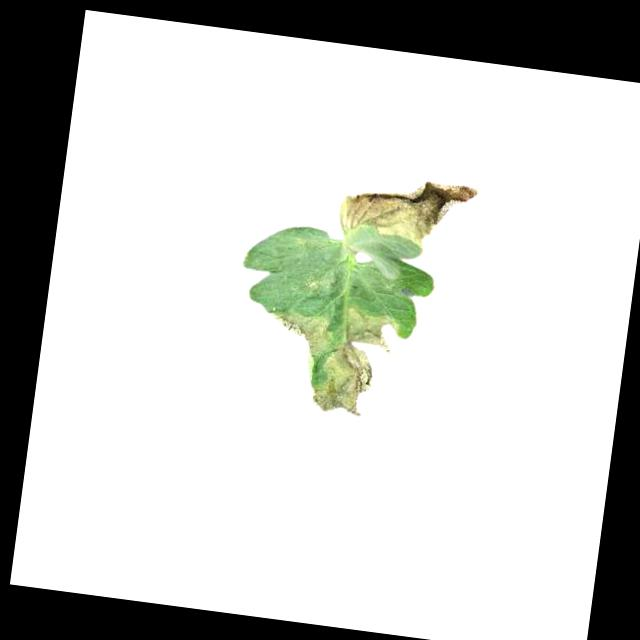Late_blight: (252, 295, 407, 422), (339, 163, 484, 248)
